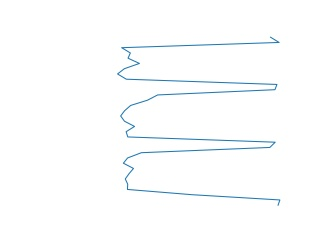majorRiverChannelBar: (116, 37, 284, 205)
